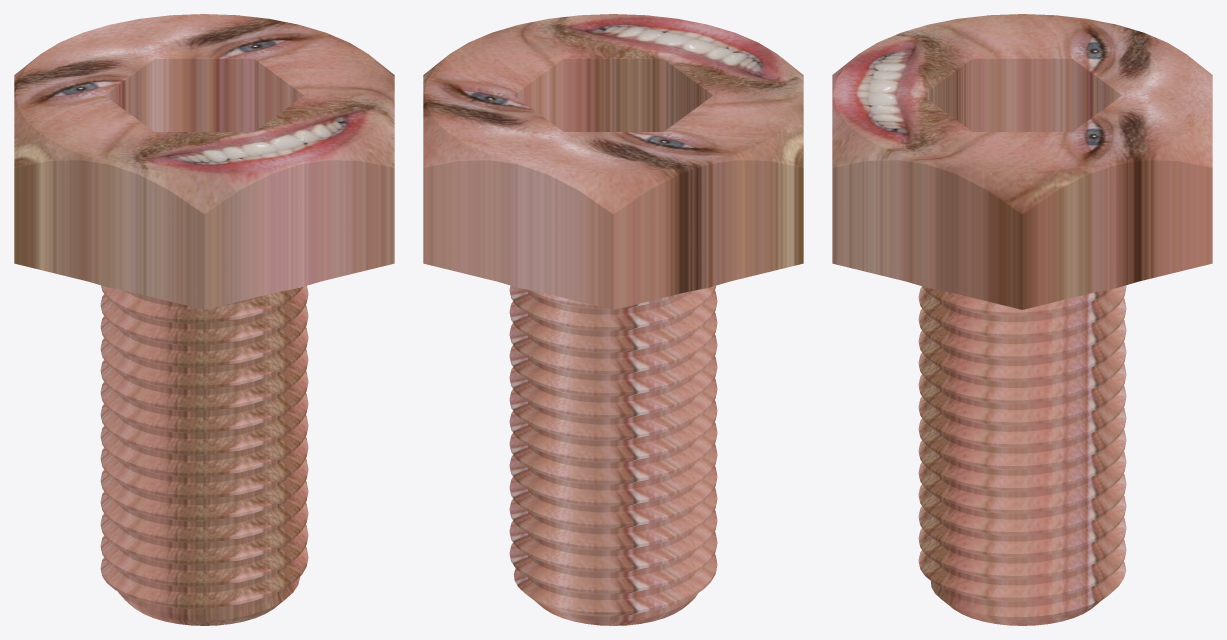
File: kroeger-hex-allen-bolt.glb
The picture shows the model from 3 angles, left to right: view 1: azimuth 30°, elevation 25°; view 2: azimuth 150°, elevation 25°; view 3: azimuth 270°, elevation 25°; orthographic projection.
Parts seen in each view (by area): view 1: Bolt.002; view 2: Bolt.002; view 3: Bolt.002.
Boxes of the visible parts, box(x1,y1,x2,y2) form: Bolt.002: box(14, 14, 394, 625); Bolt.002: box(423, 14, 803, 625); Bolt.002: box(832, 14, 1212, 625).
Bounding box in the file's own units: 0.0127 × 0.0159 × 0.011.
1 material, 1 textured.
